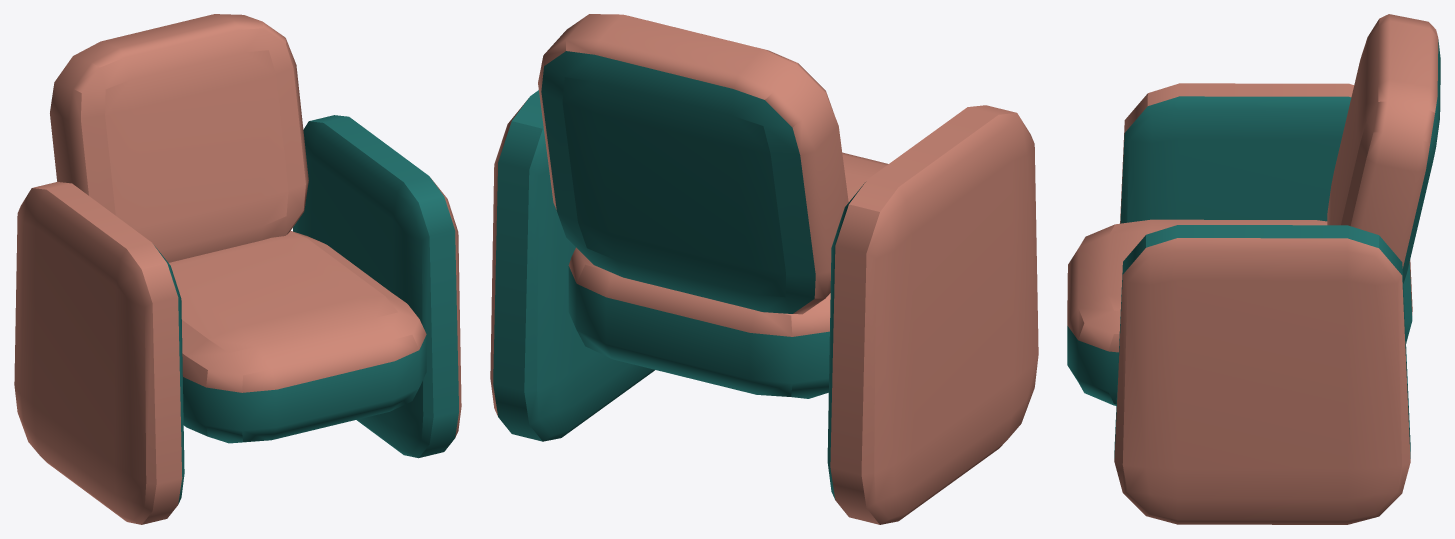
Rendered from SM_Y_03_Chair2.fbx.
3 renders of one model, left to right at view 1: azimuth 30°, elevation 25°; view 2: azimuth 150°, elevation 25°; view 3: azimuth 270°, elevation 25°, orthographic. The views are drawn at different scales.
Visible parts, largest first — view 1: SM_Y_03_Chair2; view 2: SM_Y_03_Chair2; view 3: SM_Y_03_Chair2.
Boxes of the visible parts, <box> form: SM_Y_03_Chair2: <box>14,14,461,524</box>; SM_Y_03_Chair2: <box>490,14,1038,524</box>; SM_Y_03_Chair2: <box>1067,14,1440,524</box>.
Size of the model in its own units: 107 by 118 by 101.
